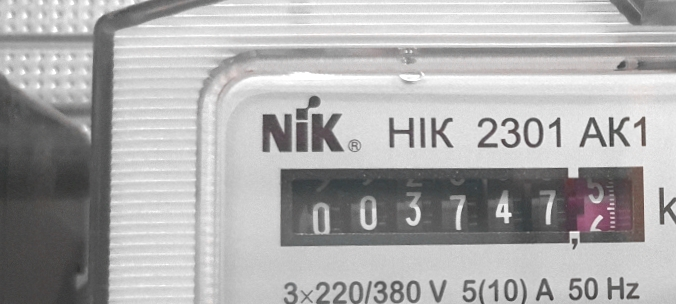0: (356, 192, 378, 231), (309, 199, 332, 235)
3: (402, 189, 422, 227)
4: (492, 186, 513, 226)
5: (585, 175, 605, 204)
6: (586, 211, 605, 232)
7: (535, 186, 558, 226), (447, 191, 467, 231)
screen: (269, 150, 659, 264)
